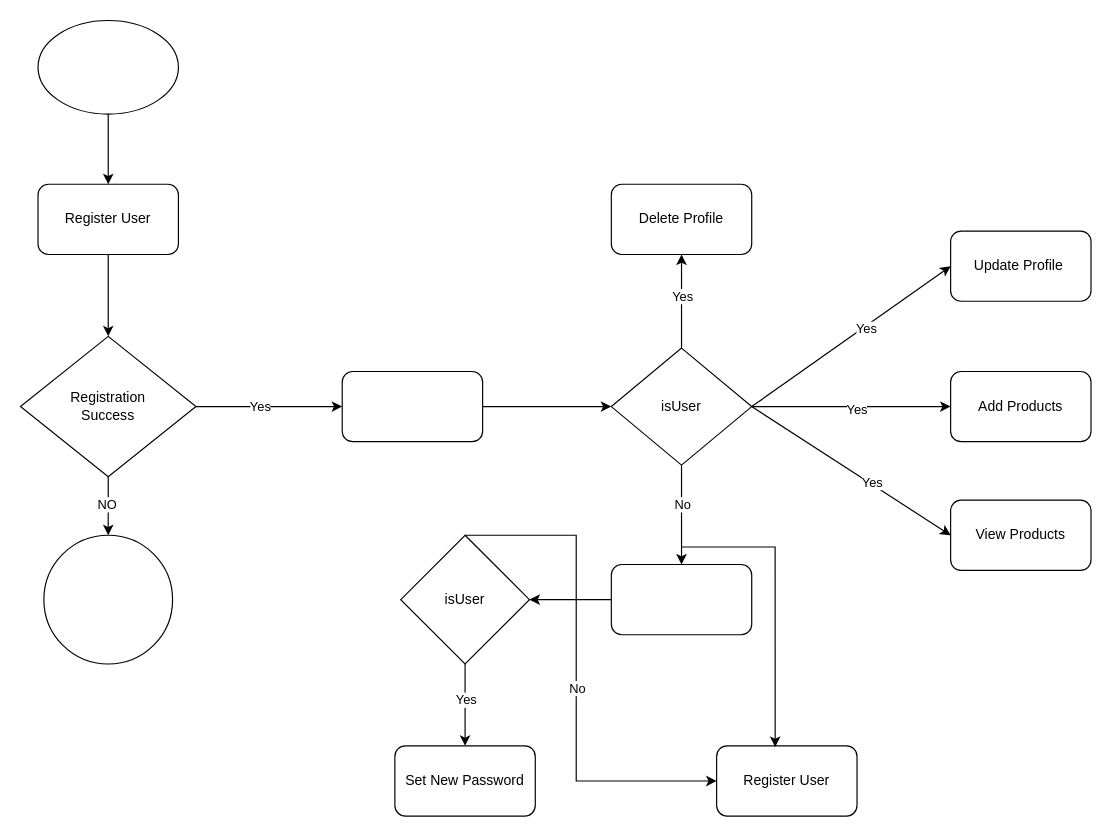
This 1112x837 diagram has some shape labels left out. The centre of each missing label's shape, as x and y in pixels:
"Auth/ Login" goes at [412,406].
"Forgot Password" goes at [681,599].
"Start" goes at [107,66].
"Stop" goes at [108,599].
